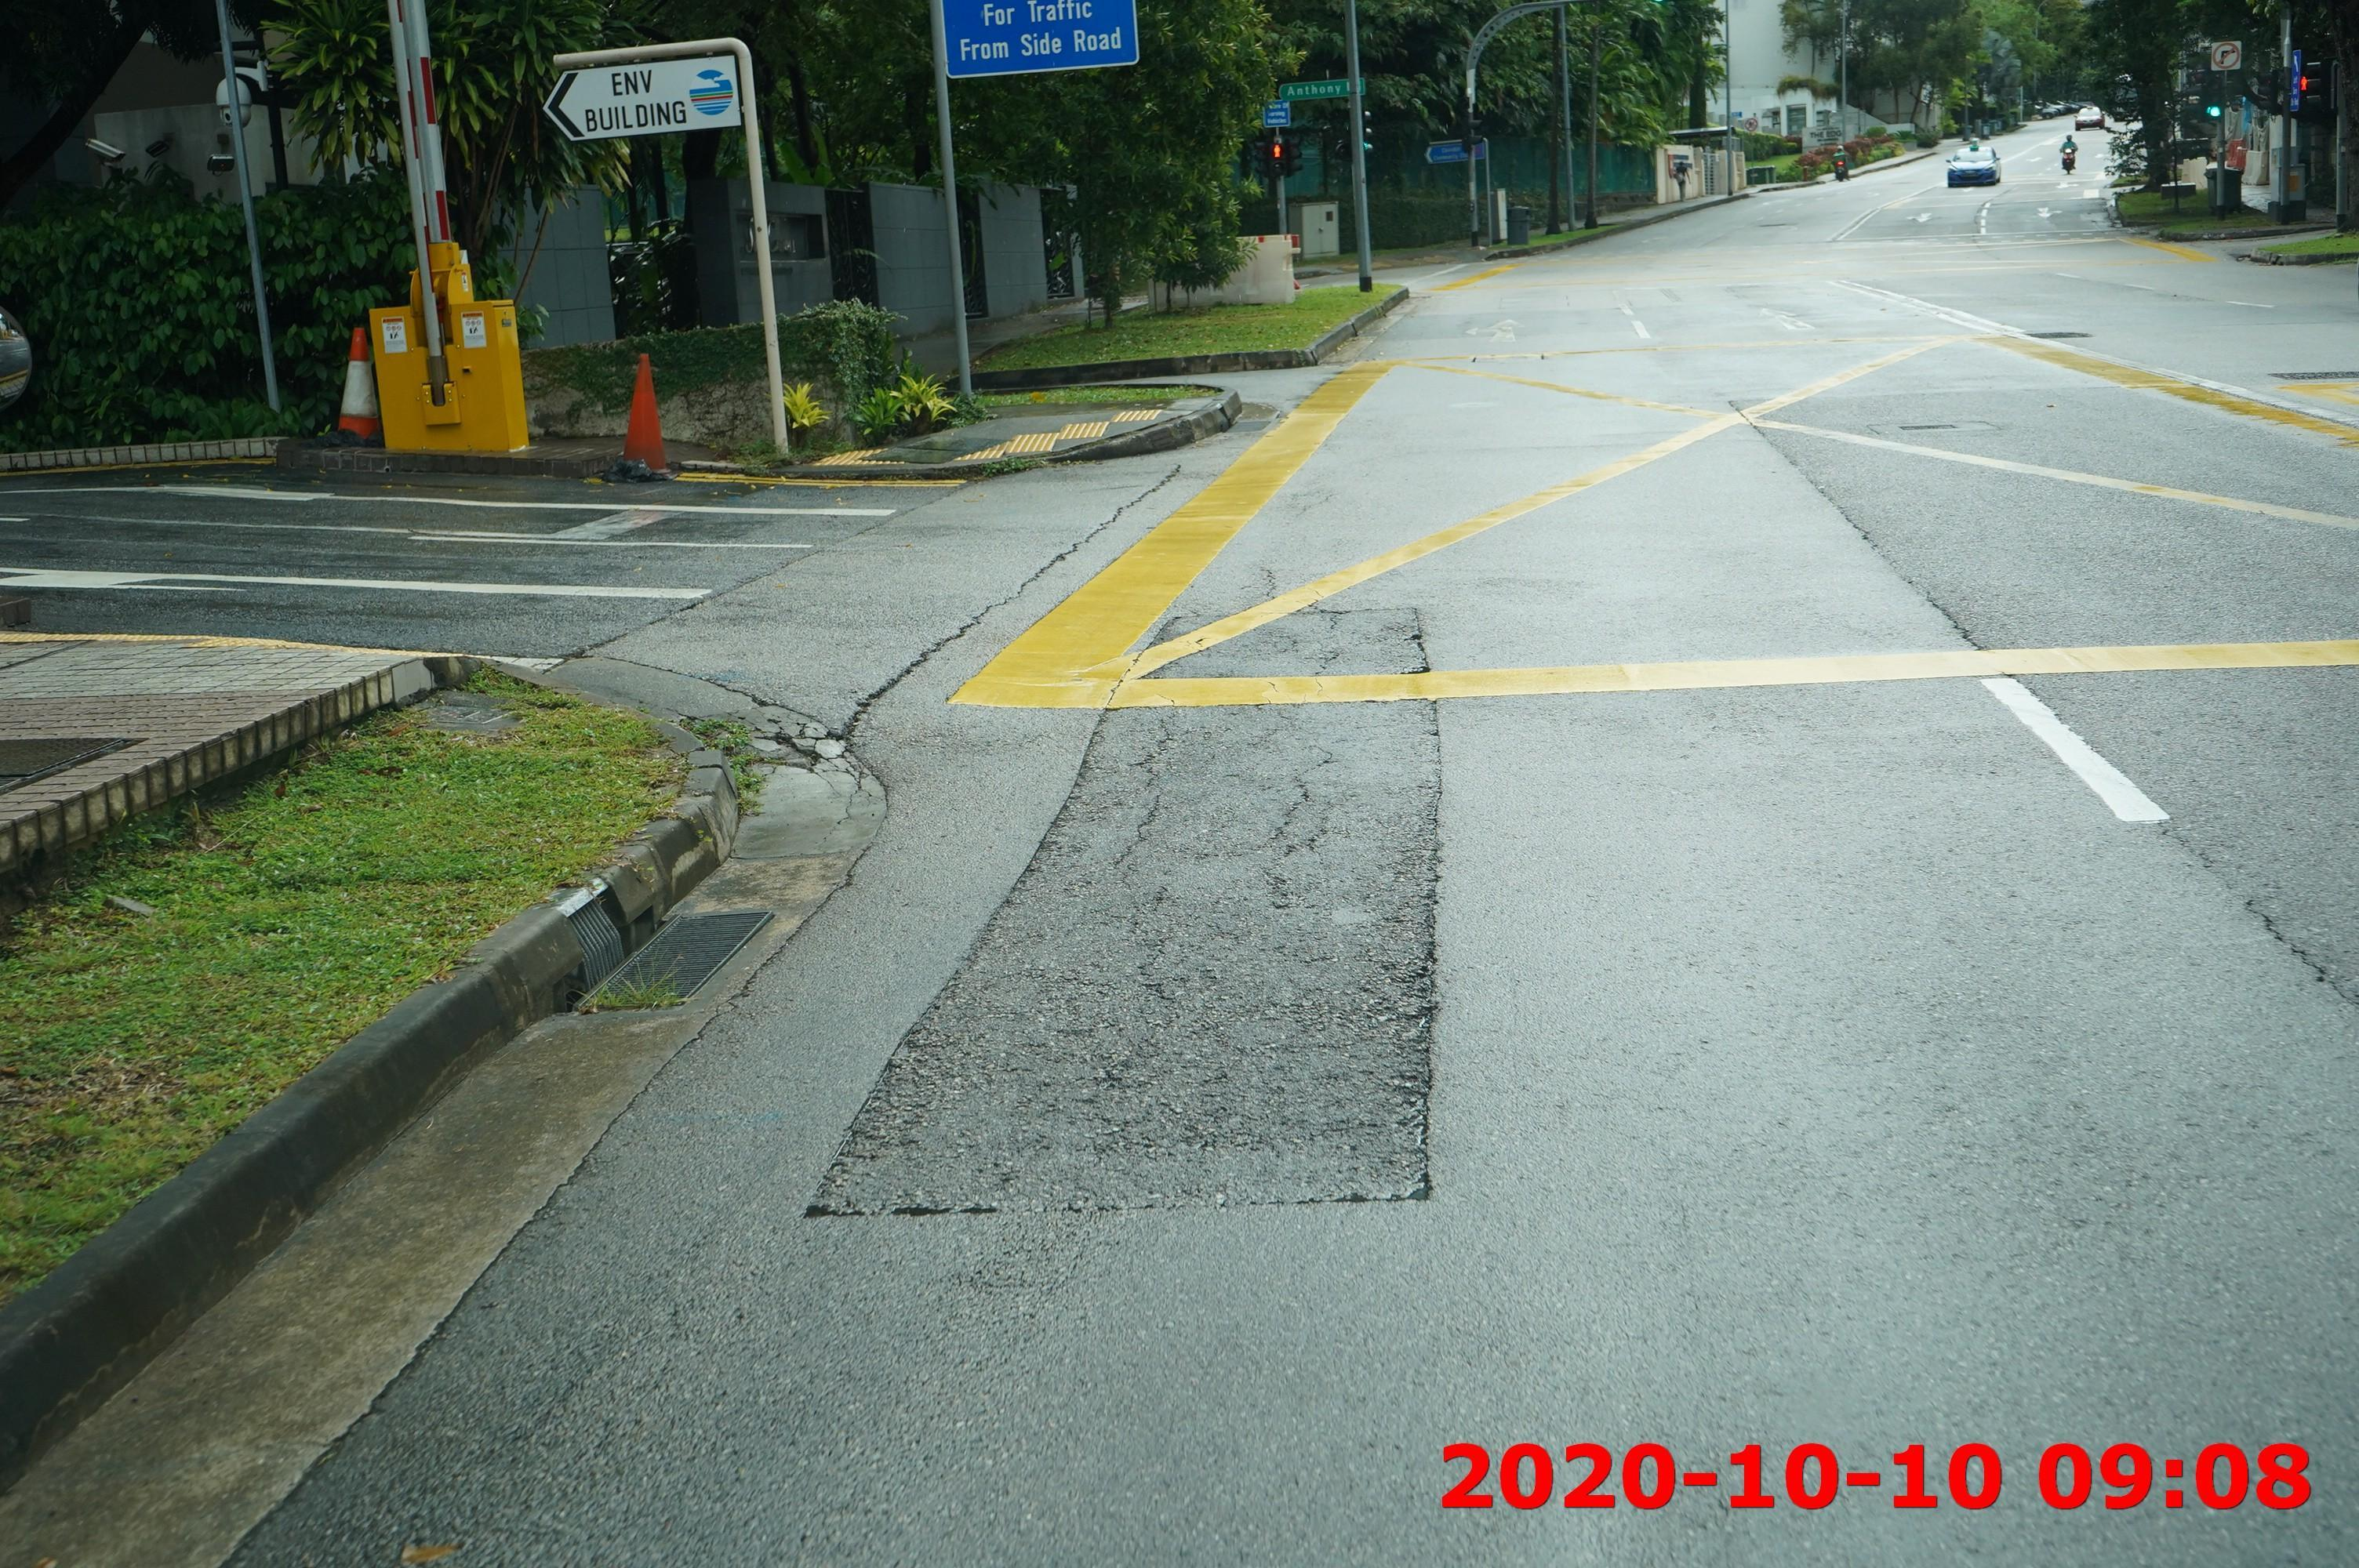peel off with cracks: (814, 705, 1463, 1228)
rigid pavement crack: (2196, 823, 2359, 1174)
